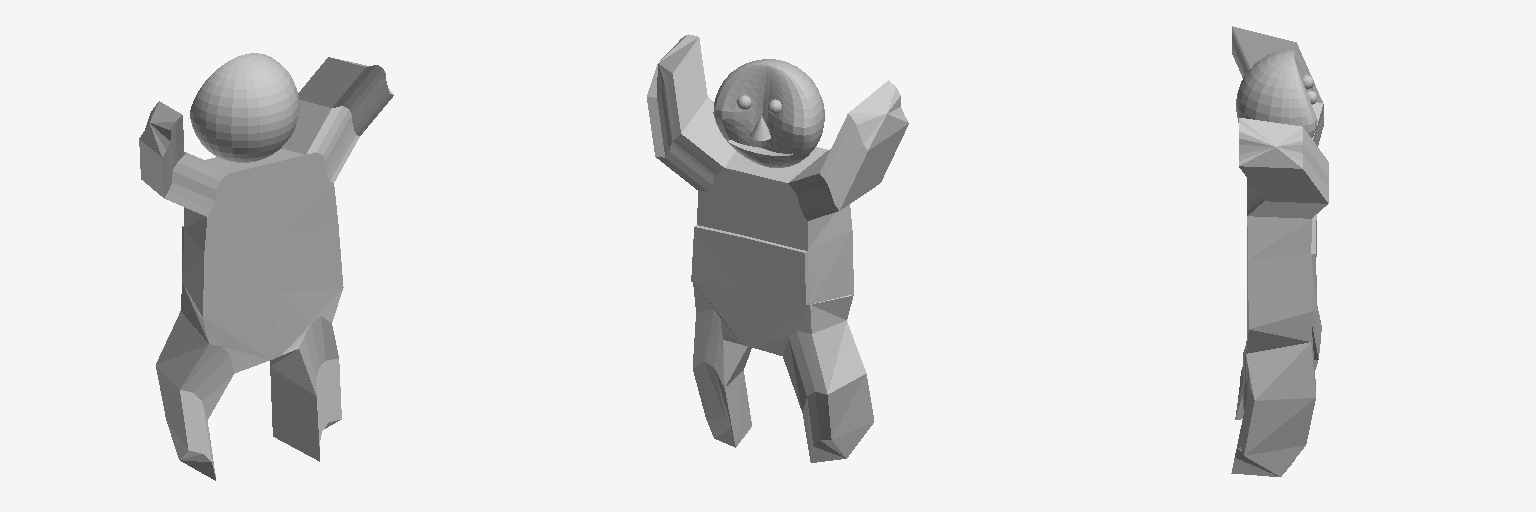
The model's file is man_000030.obj.
3 renders of one model, left to right at view 1: azimuth 30°, elevation 25°; view 2: azimuth 150°, elevation 25°; view 3: azimuth 270°, elevation 25°, orthographic.
Visible parts, largest first — view 1: Cube; view 2: Cube; view 3: Cube.
Boxes of the visible parts, box(x1,y1,x2,y2) form: Cube: box(139, 53, 393, 480); Cube: box(647, 34, 908, 462); Cube: box(1231, 26, 1328, 476).
Bounding box in the file's own units: 79.08 × 127 × 28.3.